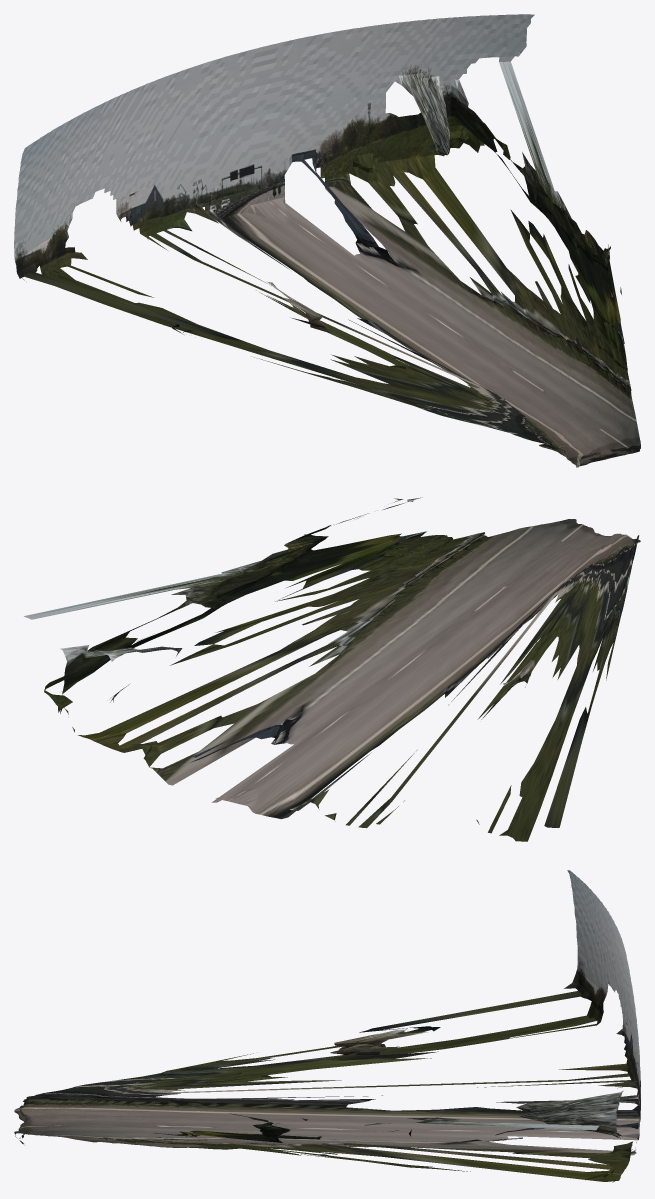
The picture shows the model from 3 angles, top to bottom: view 1: azimuth 30°, elevation 25°; view 2: azimuth 150°, elevation 25°; view 3: azimuth 270°, elevation 25°; orthographic projection. The views are drawn at different scales.
Visible parts, largest first — view 1: defaultobject; view 2: defaultobject; view 3: defaultobject.
Boxes of the visible parts, <box> form: defaultobject: <box>14,14,640,467</box>; defaultobject: <box>24,497,640,841</box>; defaultobject: <box>14,870,640,1182</box>.
Size of the model in its own units: 38.44 by 11.93 by 44.53.
Materials: 1 (1 with a texture image).
